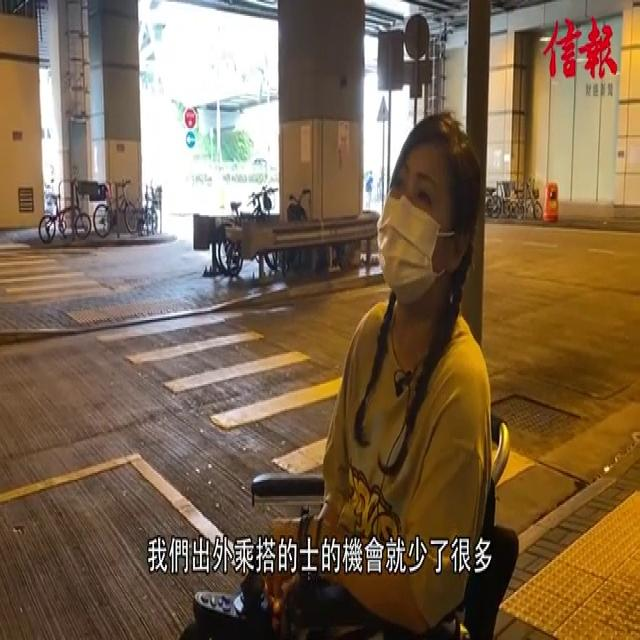wheelchairs: (183, 412, 527, 640)
